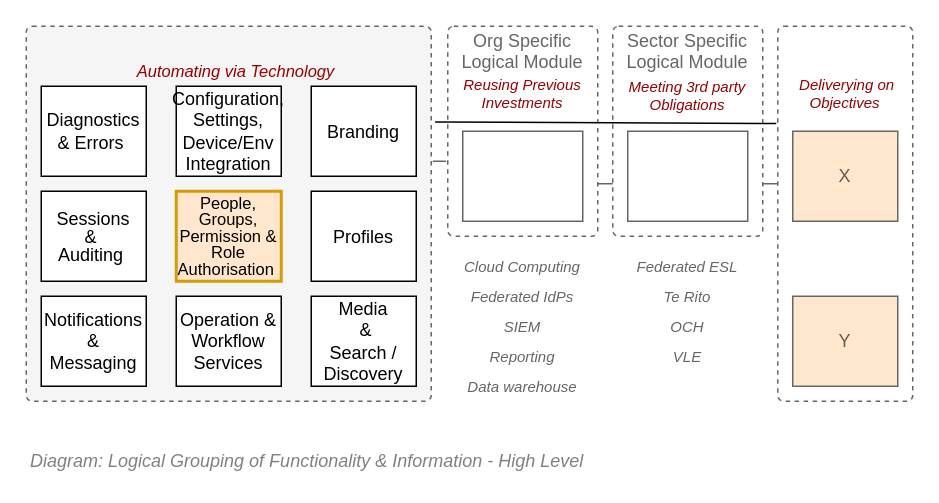
Image size: 939x503. Some labels were removed from this diagram. The box of each missing label's shape, as (x1, y1, x2, y2) in pixels:
Org Specific Environment Service Integrations: (461, 130, 583, 221)
Project Specific Logical Modules: (776, 25, 913, 401)
Sector System Integrations: (626, 130, 748, 221)
Standard System Logical Module: (25, 25, 431, 401)
